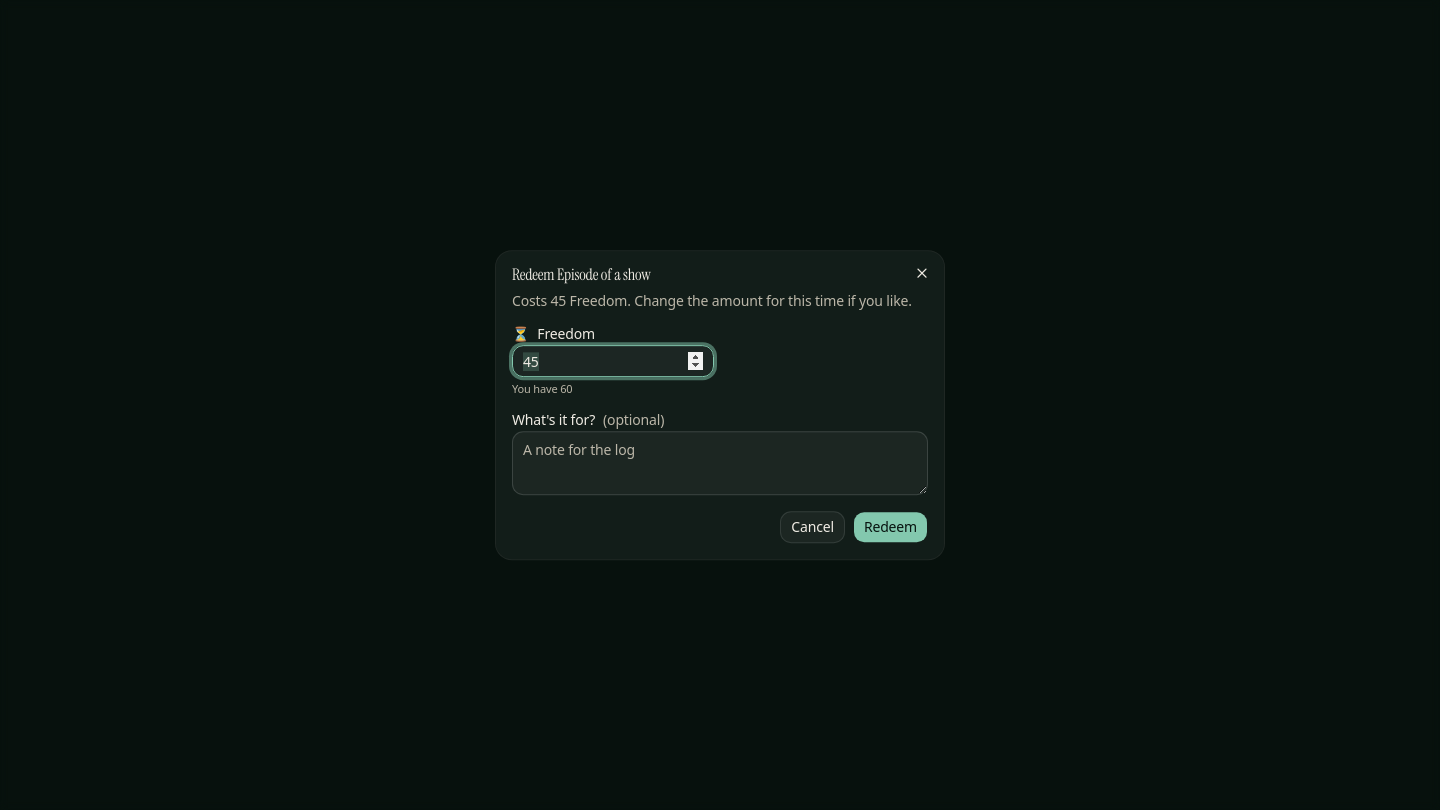
Test: RedeemDialog › keeps the dialog open with the kernel's reason when it refuses
The image size is (1440, 810).
What coordinates should you click on to do the following:
click the button "Redeem"
I would click on:
 (890, 527)
Its box is [853, 511, 928, 543].
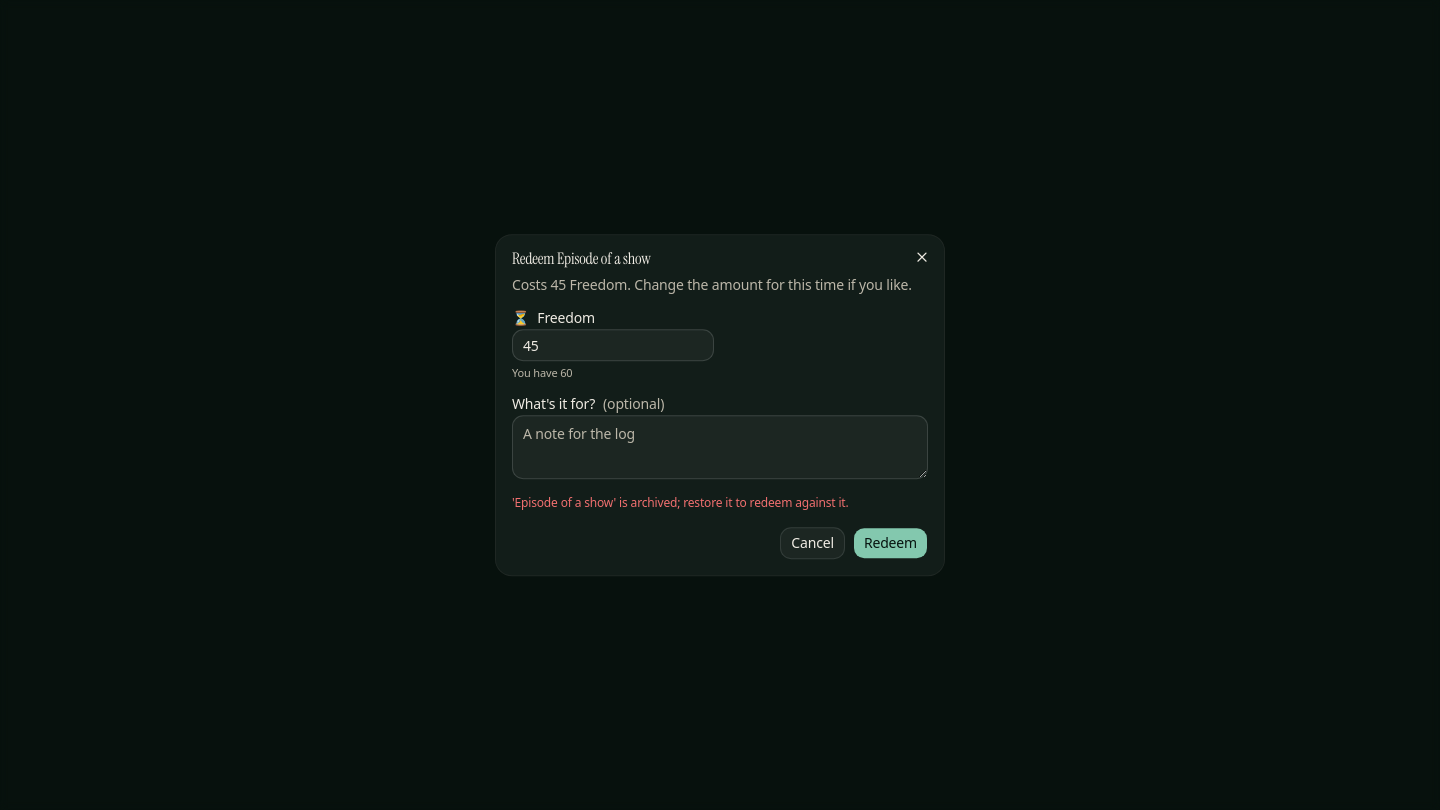
Check: the message shows "is archived", box [512, 494, 849, 511]
